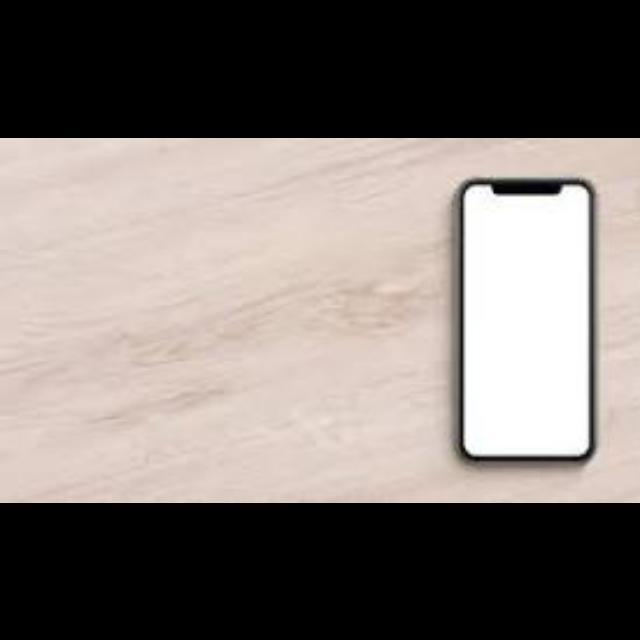PhoneUse: (452, 177, 596, 465)
